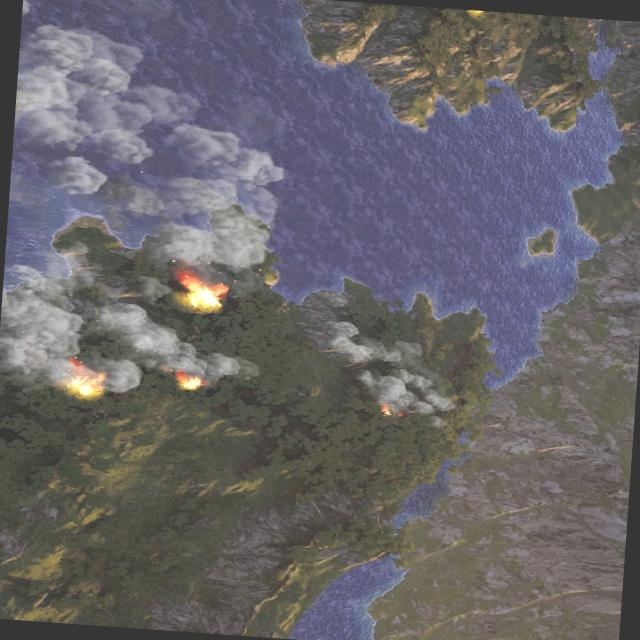fire: (174, 273, 226, 310), (64, 359, 105, 398), (172, 372, 202, 390), (378, 400, 402, 417)
smoke: (4, 19, 292, 268), (0, 257, 265, 403), (319, 324, 453, 426)
